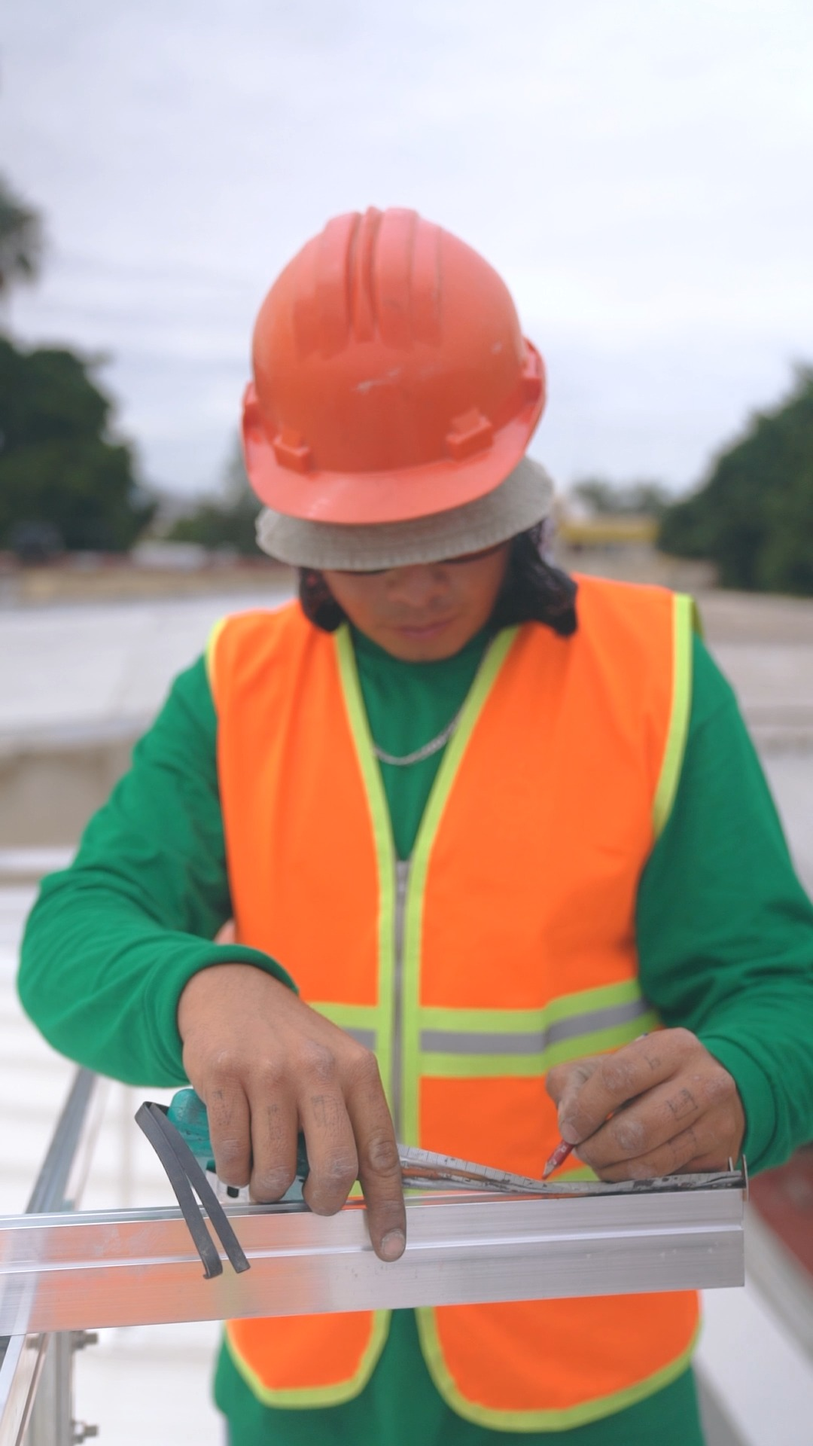No-gloves: (171, 956, 442, 1268), (518, 995, 778, 1233)
